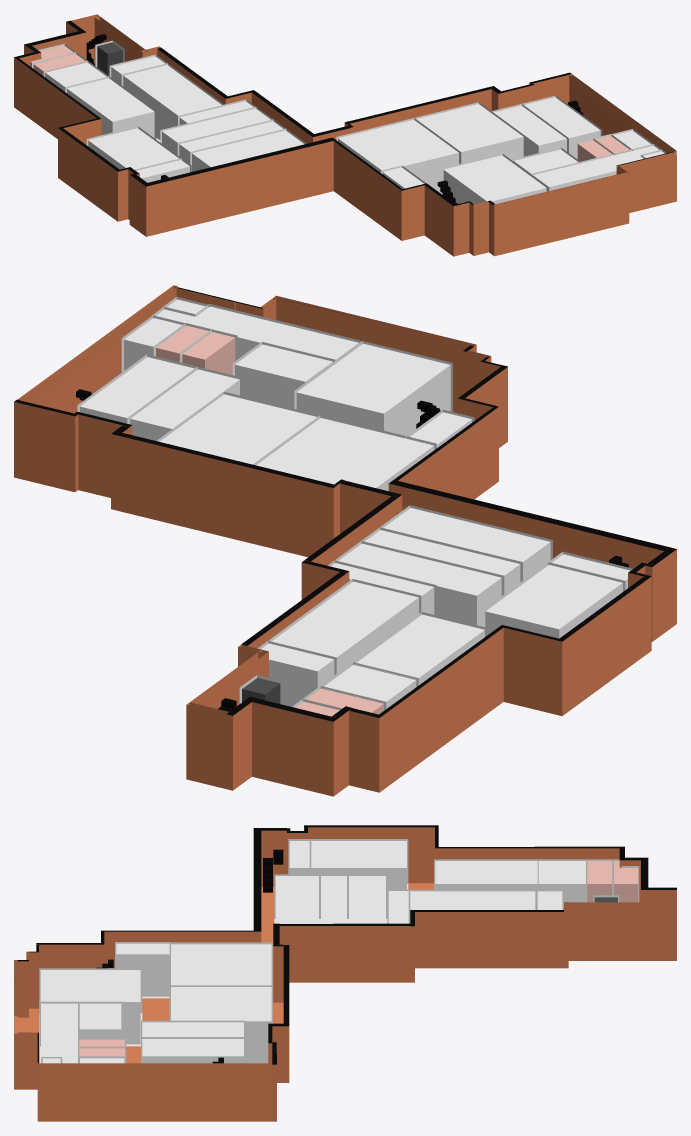
3 views of the same model, one above another, from view 1: azimuth 30°, elevation 25°; view 2: azimuth 150°, elevation 25°; view 3: azimuth 270°, elevation 25° (orthographic). The views are drawn at different scales.
Parts seen in each view (by area): view 1: object, room_1_B1_3, room_1_B1_4, room_1_B1_5, room_1_B1_19, room_1_B1_11, room_1_B1_15, room_1_B1_12, room_1_B1_1, room_1_B1_2, room_1_B1_6, room_1_B1_17 (+10 smaller); view 2: object, room_1_B1_5, room_1_B1_3, room_1_B1_19, room_1_B1_15, room_1_B1_4, room_1_B1_17, room_1_B1_11, room_1_B1_12, room_1_B1_1, room_1_B1_9, room_1_B1_8 (+11 smaller); view 3: object, room_1_B1_4, room_1_B1_3, room_1_B1_5, room_1_B1_15, room_1_B1_11, room_1_B1_2, room_1_B1_19, room_1_B1_13, room_1_B1_1, room_1_B1_12, room_1_B1_17 (+12 smaller).
Boxes of the visible parts, x1,y1,x2,y2 form: object: (14,14,676,256); room_1_B1_3: (338,119,458,193); room_1_B1_4: (416,104,523,163); room_1_B1_5: (443,155,546,204); room_1_B1_19: (123,65,221,139); room_1_B1_11: (67,78,154,137); room_1_B1_15: (88,128,178,169); room_1_B1_12: (192,130,304,171); room_1_B1_1: (533,145,658,191); room_1_B1_2: (524,97,600,157); room_1_B1_6: (493,105,566,156); room_1_B1_17: (162,108,270,154); object: (14,285,676,796); room_1_B1_5: (296,343,450,435); room_1_B1_3: (256,418,434,491); room_1_B1_19: (271,581,418,673); room_1_B1_15: (485,565,622,638); room_1_B1_4: (159,394,317,464); room_1_B1_17: (338,543,501,626); room_1_B1_11: (354,614,484,686); room_1_B1_12: (384,508,550,580); room_1_B1_1: (156,306,358,360); room_1_B1_9: (261,563,434,706); room_1_B1_8: (235,344,332,408); object: (14,825,676,1121); room_1_B1_4: (171,987,271,1063); room_1_B1_3: (171,944,271,985); room_1_B1_5: (40,970,140,1044); room_1_B1_15: (311,841,406,889); room_1_B1_11: (435,861,537,889); room_1_B1_2: (142,1039,243,1063); room_1_B1_19: (410,891,535,909); room_1_B1_13: (116,943,169,996); room_1_B1_1: (41,1003,77,1063); room_1_B1_12: (275,876,318,923); room_1_B1_17: (349,876,385,923).
Size of the model in its own units: 2.22 by 0.2449 by 2.59.
